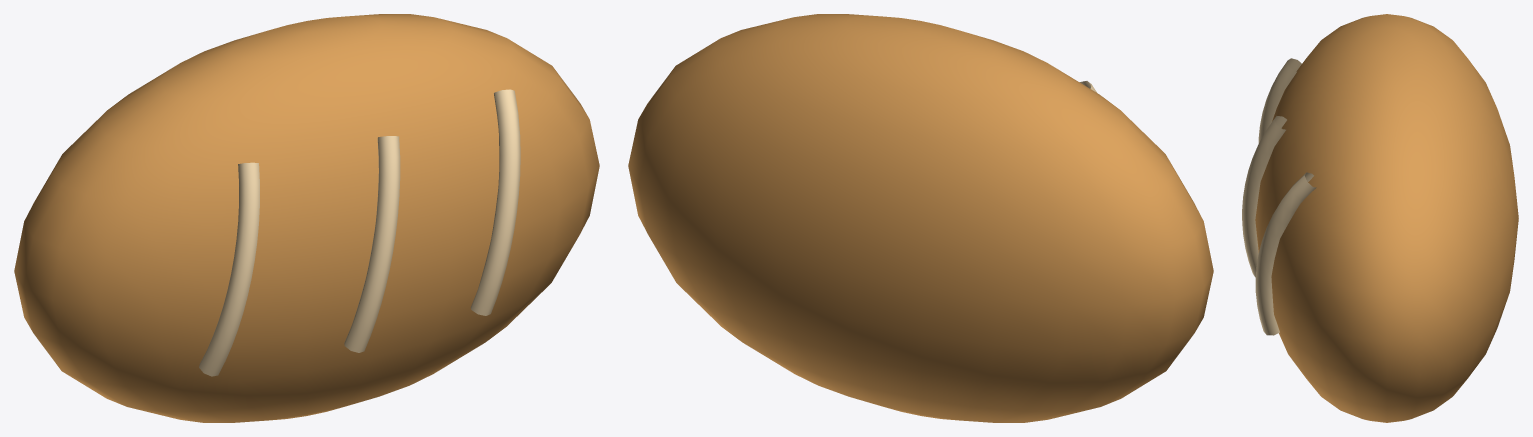
File: bread.glb
The picture shows the model from 3 angles, left to right: view 1: azimuth 30°, elevation 25°; view 2: azimuth 150°, elevation 25°; view 3: azimuth 270°, elevation 25°; orthographic projection. The views are drawn at different scales.
Visible parts, largest first — view 1: Round soft bread, Bread scoring.002, Bread scoring.001, Bread scoring; view 2: Round soft bread; view 3: Round soft bread, Bread scoring.002, Bread scoring.001, Bread scoring.
Boxes of the visible parts, left/top/right/bottom form: Round soft bread: left=14, top=14, right=599, bottom=422; Bread scoring.002: left=470, top=89, right=520, bottom=315; Bread scoring.001: left=344, top=136, right=400, bottom=352; Bread scoring: left=199, top=162, right=259, bottom=376; Round soft bread: left=628, top=14, right=1213, bottom=422; Round soft bread: left=1255, top=14, right=1518, bottom=422; Bread scoring.002: left=1255, top=172, right=1316, bottom=335; Bread scoring.001: left=1242, top=116, right=1286, bottom=277; Bread scoring: left=1258, top=58, right=1301, bottom=143.
Size of the model in its own units: 0.15 by 0.094 by 0.0714.
